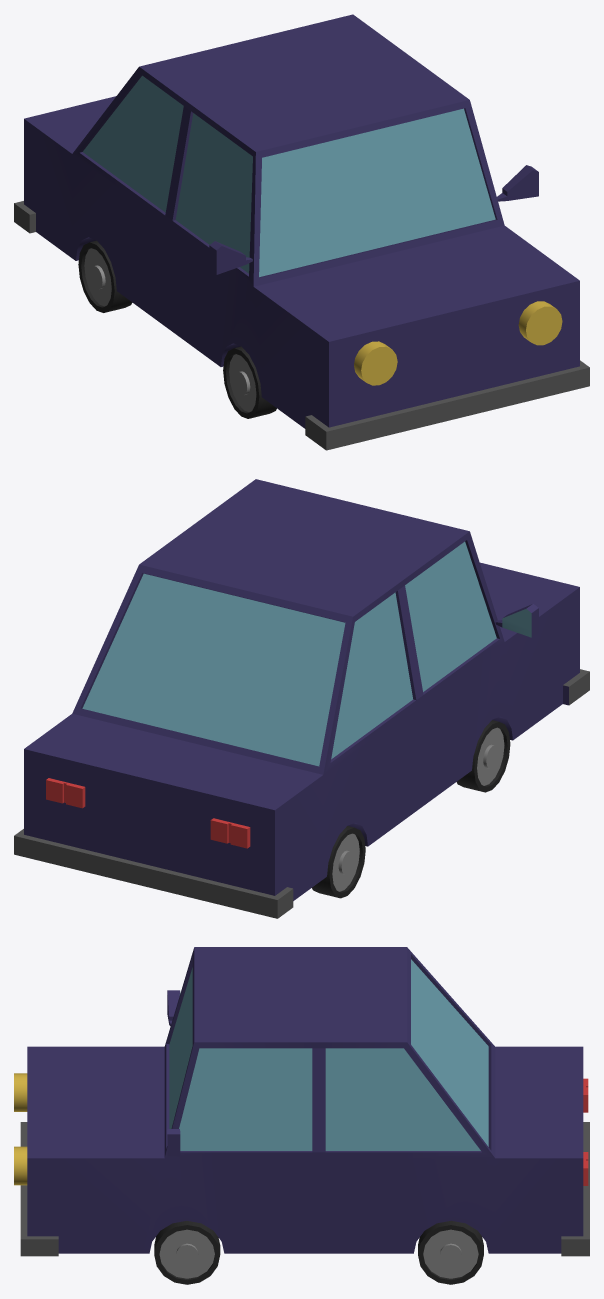
The model's file is Small_Car.fbx.
The picture shows the model from 3 angles, top to bottom: view 1: azimuth 30°, elevation 25°; view 2: azimuth 150°, elevation 25°; view 3: azimuth 270°, elevation 25°; orthographic projection. The views are drawn at different scales.
Visible parts, largest first — view 1: Small_Car, RightFrontWheel, RightBackWheel; view 2: Small_Car, RightBackWheel, RightFrontWheel; view 3: Small_Car, LeftFrontWheel, LeftBackWheel.
Boxes of the visible parts, bbox=[...] form: Small_Car: bbox=[14, 14, 589, 450]; RightFrontWheel: bbox=[223, 346, 276, 418]; RightBackWheel: bbox=[78, 240, 132, 312]; Small_Car: bbox=[14, 479, 589, 918]; RightBackWheel: bbox=[312, 826, 365, 898]; RightFrontWheel: bbox=[456, 720, 510, 792]; Small_Car: bbox=[14, 947, 589, 1256]; LeftFrontWheel: bbox=[154, 1221, 220, 1284]; LeftBackWheel: bbox=[418, 1220, 483, 1284].
Size of the model in its own units: 257 by 196 by 436.
